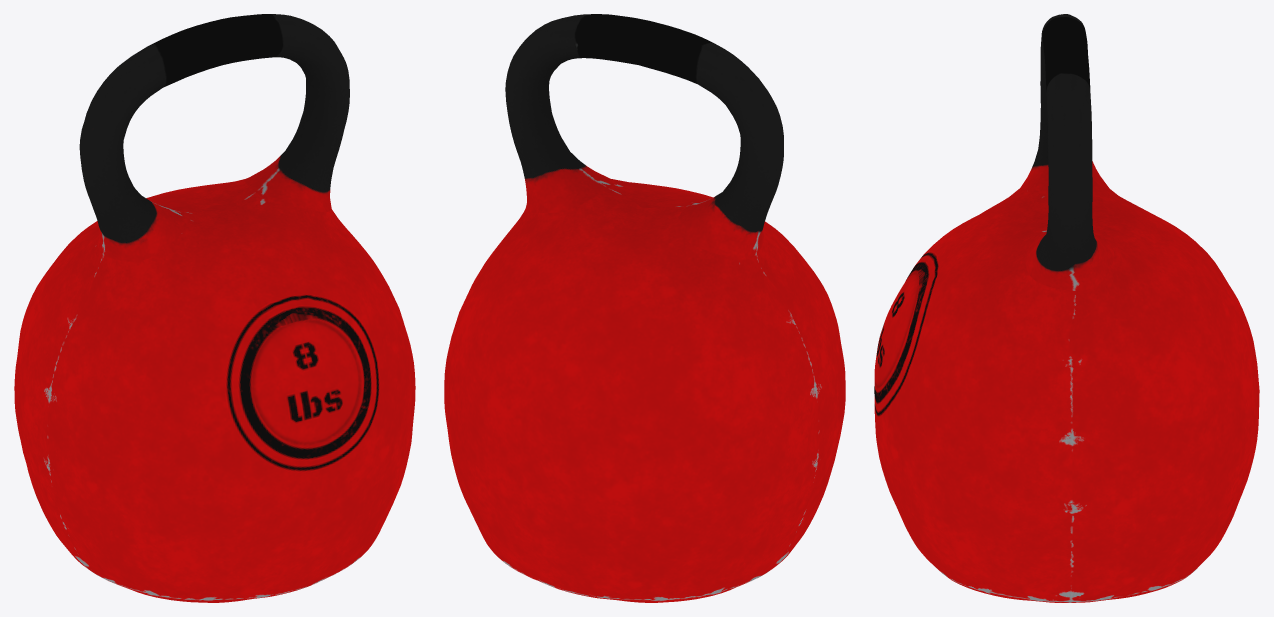
File: russian_dumbbell_red (1).glb
3 views of the same model, side by side, from view 1: azimuth 30°, elevation 25°; view 2: azimuth 150°, elevation 25°; view 3: azimuth 270°, elevation 25° (orthographic). The views are drawn at different scales.
Parts seen in each view (by area): view 1: Russian Dumbbell_3; view 2: Russian Dumbbell_3; view 3: Russian Dumbbell_3.
Boxes of the visible parts, box(x1,y1,x2,y2) form: Russian Dumbbell_3: box(14, 14, 415, 602); Russian Dumbbell_3: box(444, 14, 845, 602); Russian Dumbbell_3: box(874, 14, 1259, 602).
Size of the model in its own units: 0.8383 by 1.24 by 0.838.
1 material, 1 textured.
